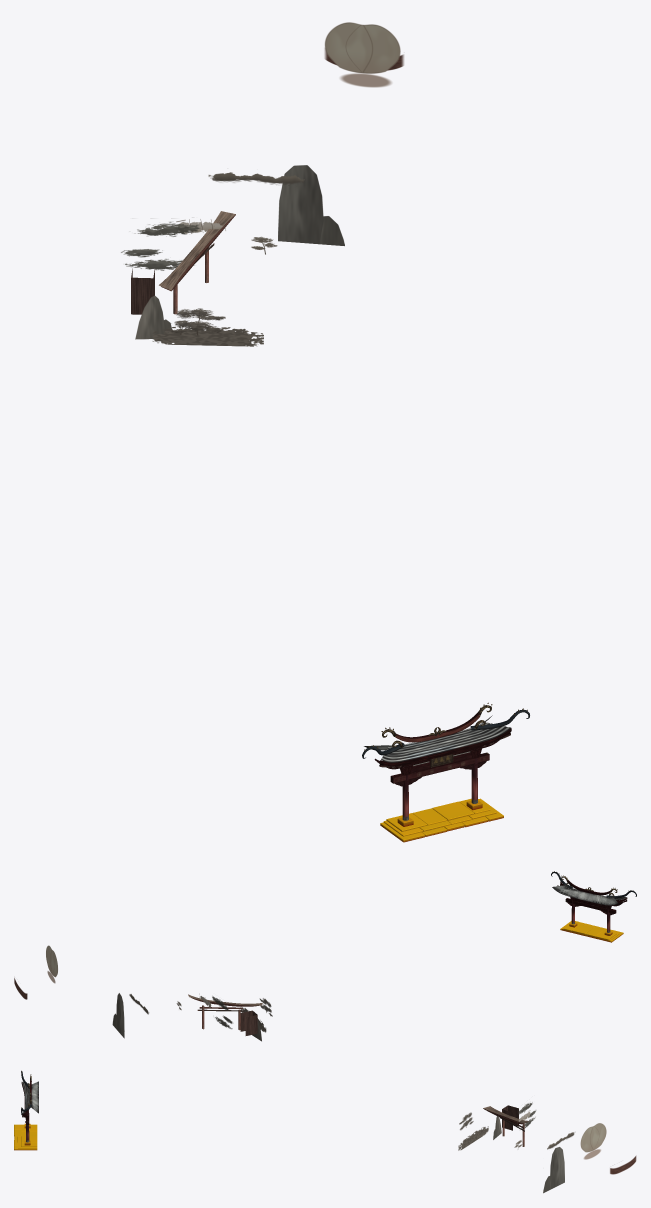
File: gate.glb
3 views of the same model, one above another, from view 1: azimuth 30°, elevation 25°; view 2: azimuth 150°, elevation 25°; view 3: azimuth 270°, elevation 25° (orthographic). The views are drawn at different scales.
Visible parts, largest first — view 1: temple_cards, gate_steps, gate_timber, temple_mesh, gate_tile, temple_cards_fixed; view 2: temple_cards, temple_mesh, gate_steps, gate_tile, gate_timber; view 3: temple_cards, temple_mesh, gate_steps, gate_tile.
Part boxes in pixels (box(x1,y1,x2,y2)): temple_cards: box(135, 22, 403, 346); gate_steps: box(380, 798, 503, 842); gate_timber: box(374, 728, 511, 786); temple_mesh: box(131, 211, 235, 314); gate_tile: box(364, 715, 510, 762); temple_cards_fixed: box(121, 217, 199, 270); temple_cards: box(14, 945, 272, 1041); temple_mesh: box(188, 994, 262, 1035); gate_steps: box(560, 921, 623, 942); gate_tile: box(552, 883, 626, 905); gate_timber: box(557, 881, 627, 915); temple_cards: box(458, 1110, 636, 1193); temple_mesh: box(483, 1105, 528, 1146); gate_steps: box(14, 1124, 37, 1150); gate_tile: box(21, 1081, 38, 1113).
Size of the model in its own units: 55.61 by 22.65 by 95.11.
7 materials, 5 textured.
